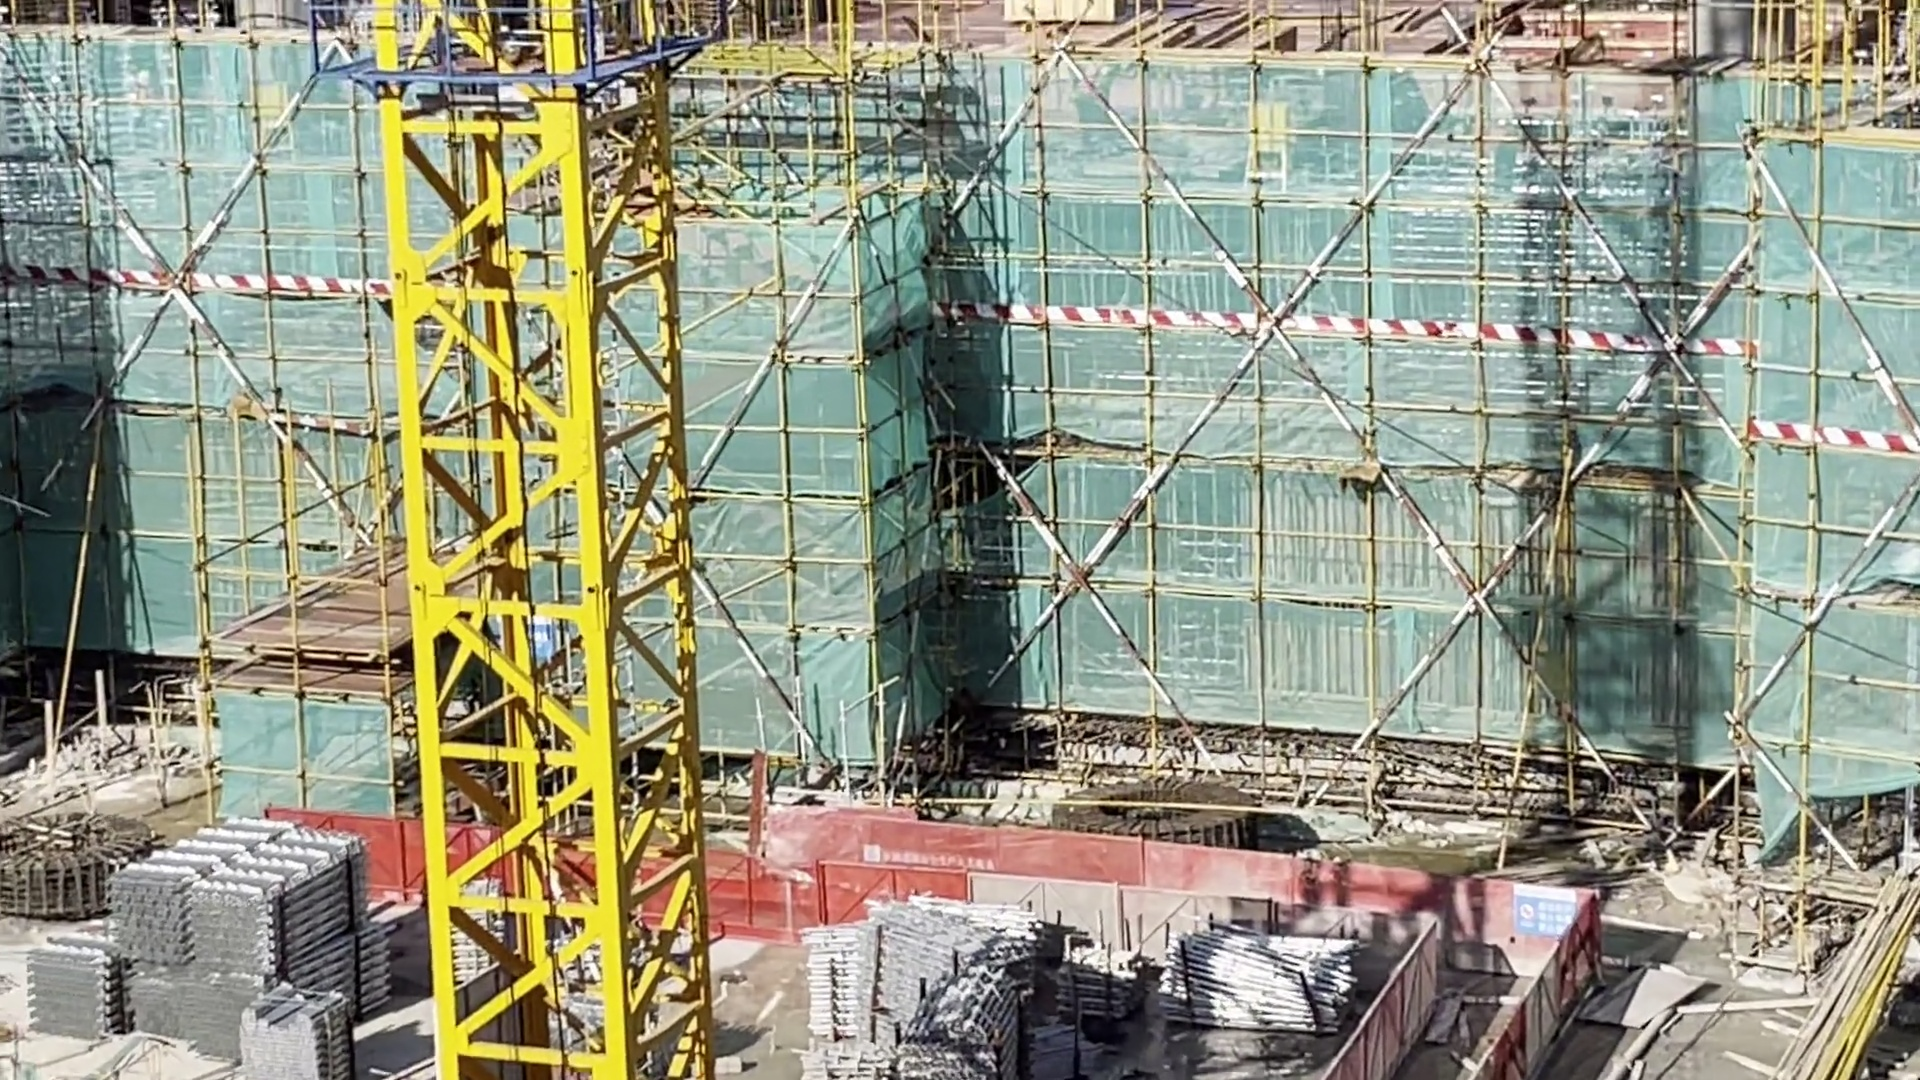fence: (705, 815, 1506, 938), (1302, 932, 1596, 1079)
scaffold: (120, 829, 389, 1038), (818, 911, 1042, 1025), (1170, 935, 1357, 1036), (222, 988, 357, 1079), (909, 984, 1017, 1080), (36, 923, 120, 1038), (1058, 953, 1151, 1030)
slogan: (1515, 887, 1582, 939)
